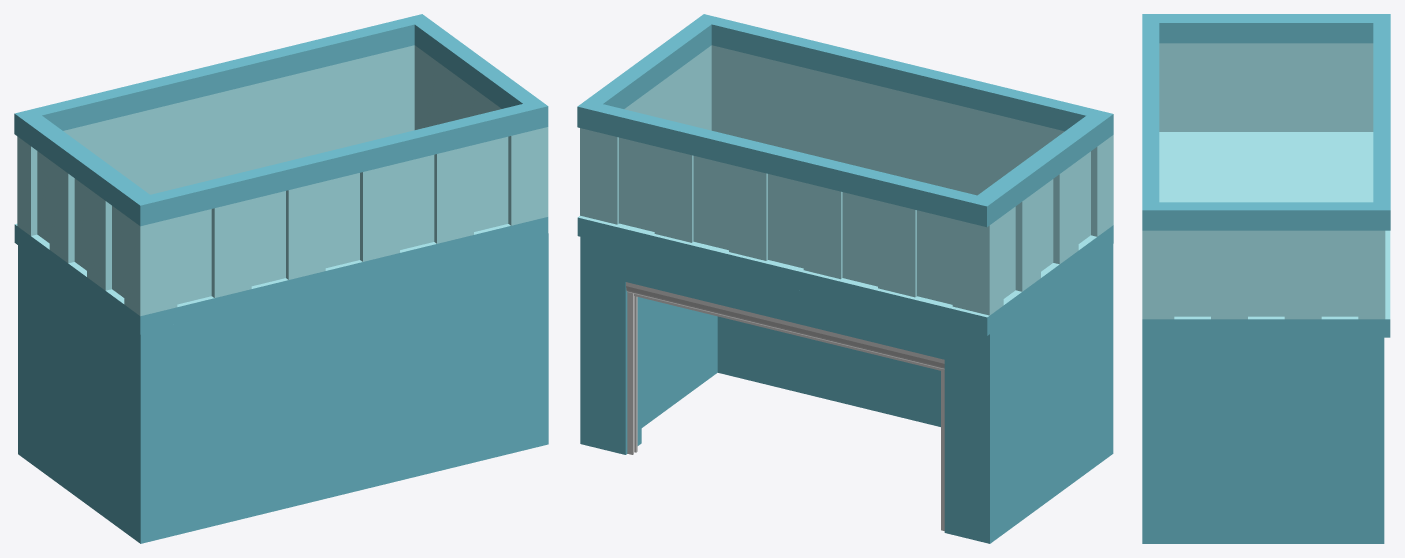
Rendered from largeshop.fbx.
3 views of the same model, side by side, from view 1: azimuth 30°, elevation 25°; view 2: azimuth 150°, elevation 25°; view 3: azimuth 270°, elevation 25° (orthographic).
Parts seen in each view (by area): view 1: Roof.001, Cube.142; view 2: Roof.001, Cube.142, Cube.176, Cube.174, Cube.175, Cube.177; view 3: Roof.001, Cube.142.
Part boxes in pixels (left/top/right/bottom): Roof.001: left=14, top=14, right=548, bottom=334; Cube.142: left=18, top=233, right=548, bottom=543; Roof.001: left=577, top=14, right=1113, bottom=335; Cube.142: left=580, top=237, right=1113, bottom=543; Cube.176: left=626, top=282, right=944, bottom=369; Cube.174: left=627, top=292, right=637, bottom=454; Cube.175: left=634, top=294, right=940, bottom=370; Cube.177: left=941, top=368, right=944, bottom=530; Roof.001: left=1142, top=14, right=1390, bottom=337; Cube.142: left=1142, top=335, right=1384, bottom=543.
Bounding box in the file's own units: 12.13 × 9.61 × 6.48.
